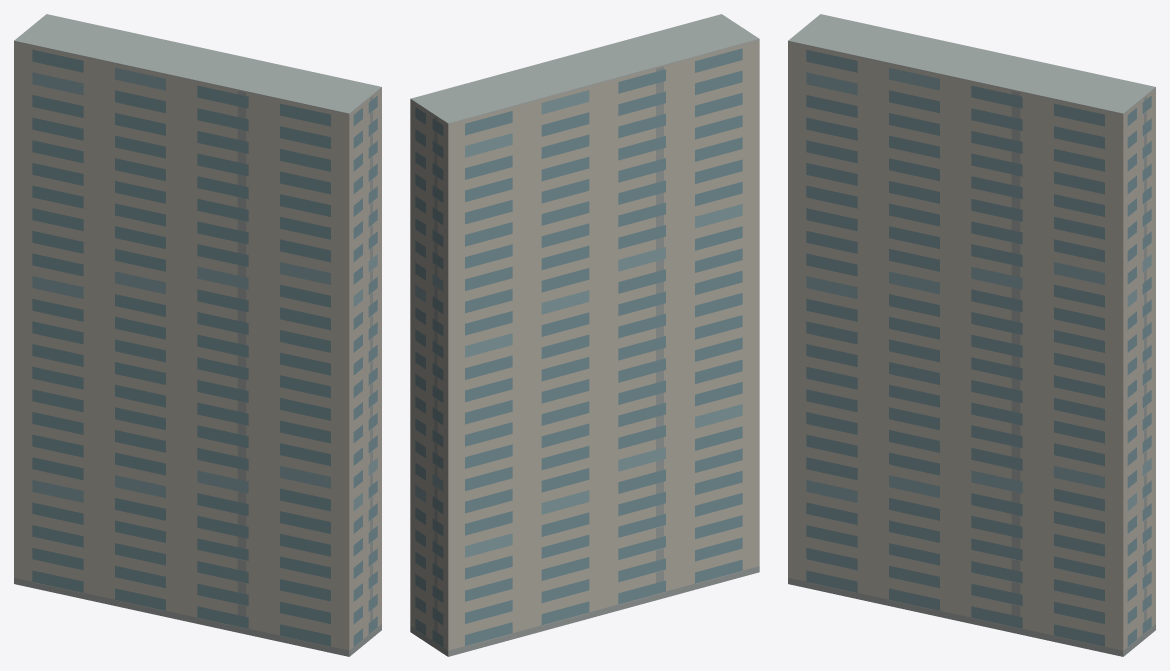
Rendered from residential-f1642dc2-ea9e-4464-85ad-16561cf529e0.glb.
3 renders of one model, left to right at view 1: azimuth 90°, elevation 25°; view 2: azimuth 150°, elevation 25°; view 3: azimuth 270°, elevation 25°, orthographic.
Parts seen in each view (by area): view 1: residential-f1642dc2-ea9e-4464-85ad-16561cf529e0.tmp; view 2: residential-f1642dc2-ea9e-4464-85ad-16561cf529e0.tmp; view 3: residential-f1642dc2-ea9e-4464-85ad-16561cf529e0.tmp.
Part boxes in pixels (left/top/right/bottom): residential-f1642dc2-ea9e-4464-85ad-16561cf529e0.tmp: left=14, top=14, right=381, bottom=656; residential-f1642dc2-ea9e-4464-85ad-16561cf529e0.tmp: left=410, top=14, right=759, bottom=656; residential-f1642dc2-ea9e-4464-85ad-16561cf529e0.tmp: left=788, top=14, right=1155, bottom=656.
Size of the model in its own units: 28.78 by 73.2 by 44.91.
